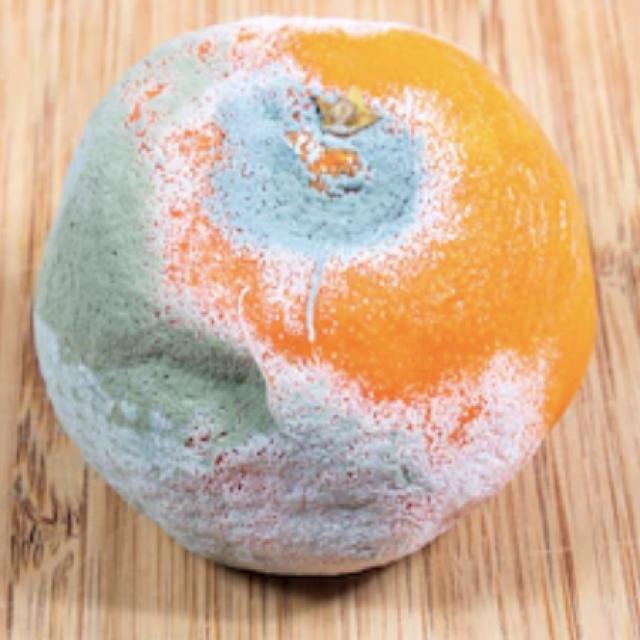orange: (36, 20, 595, 573)
